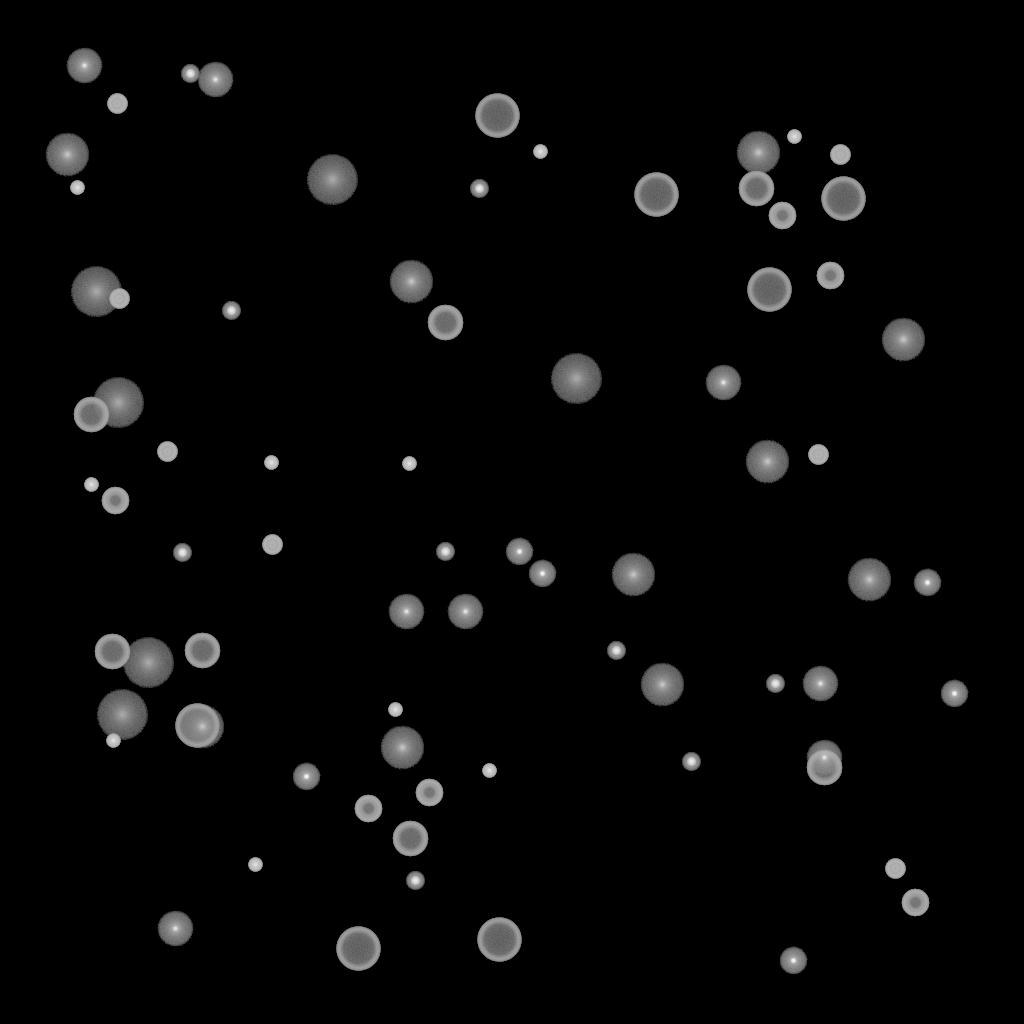depth:-10: (292, 763, 320, 791), (913, 569, 941, 597), (505, 538, 533, 566), (940, 680, 968, 708), (779, 947, 807, 975), (528, 560, 556, 588)
depth:-20: (682, 753, 700, 771), (607, 642, 625, 660), (766, 675, 784, 693), (406, 872, 424, 890), (436, 543, 454, 561), (222, 302, 240, 320), (181, 65, 199, 83), (173, 544, 191, 562), (470, 180, 488, 198)
depth:-30: (482, 764, 496, 778), (402, 457, 416, 471), (388, 703, 402, 717), (106, 734, 120, 748), (787, 130, 801, 144), (264, 456, 278, 470), (70, 181, 84, 195), (533, 145, 547, 159), (84, 478, 98, 492), (248, 858, 262, 872)
depth:-40: (885, 859, 905, 879), (808, 445, 828, 465), (107, 94, 127, 114), (830, 145, 850, 165), (262, 535, 282, 555), (157, 442, 177, 462), (109, 289, 129, 309)
depth:-50: (101, 487, 129, 515), (354, 795, 382, 823), (768, 202, 796, 230), (415, 779, 443, 807), (816, 262, 844, 290), (901, 889, 929, 917)
depth:-60: (392, 821, 428, 857), (806, 750, 842, 786), (94, 634, 130, 670), (73, 397, 109, 433), (738, 171, 774, 207), (427, 305, 463, 341), (184, 633, 220, 669)
depth:-70: (747, 268, 791, 312), (175, 704, 219, 748), (336, 927, 380, 971), (477, 918, 521, 962), (821, 177, 865, 221), (475, 94, 519, 138), (634, 173, 678, 217)
depth:0: (705, 365, 741, 401), (447, 594, 483, 630), (66, 48, 102, 84), (802, 666, 838, 702), (388, 594, 424, 630), (806, 740, 842, 776), (157, 911, 193, 947), (197, 62, 233, 98)
depth:10: (389, 260, 433, 304), (640, 663, 684, 707), (745, 440, 789, 484), (380, 726, 424, 770), (847, 558, 891, 602), (180, 705, 224, 749), (611, 553, 655, 597), (881, 318, 925, 362), (736, 131, 780, 175), (45, 133, 89, 177)
depth:20: (550, 354, 602, 404), (122, 638, 174, 688), (306, 155, 358, 205), (92, 378, 144, 428), (96, 690, 148, 740), (70, 267, 122, 317)
